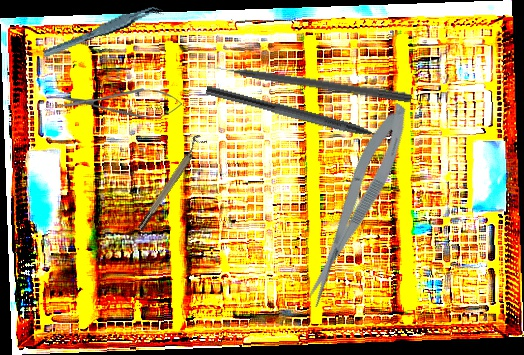Chopper: (202, 85, 400, 156)
Fixation Ring: (132, 133, 208, 232)
Micro Scissor: (291, 98, 420, 311), (60, 86, 183, 120)
Pusher: (200, 58, 413, 104)
Tissue Forceps: (39, 4, 167, 58)
